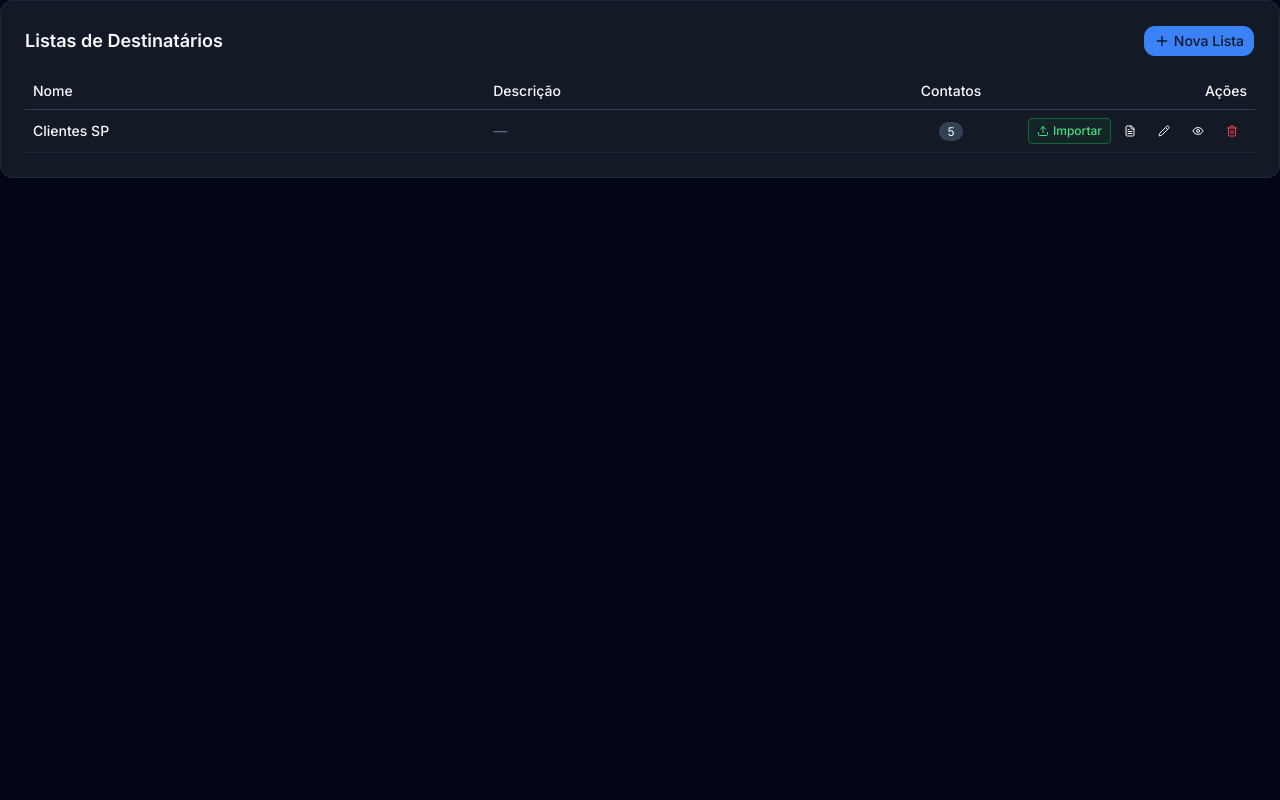
Scenario: ListasTab › limpa emails repetidos mantendo 1 contato por email
What coordinates should you click on to do the following:
click the button named "Editar lista Clientes SP"
I would click on:
 (1164, 131)
Its box is top-left (1149, 119), bottom-right (1179, 143).
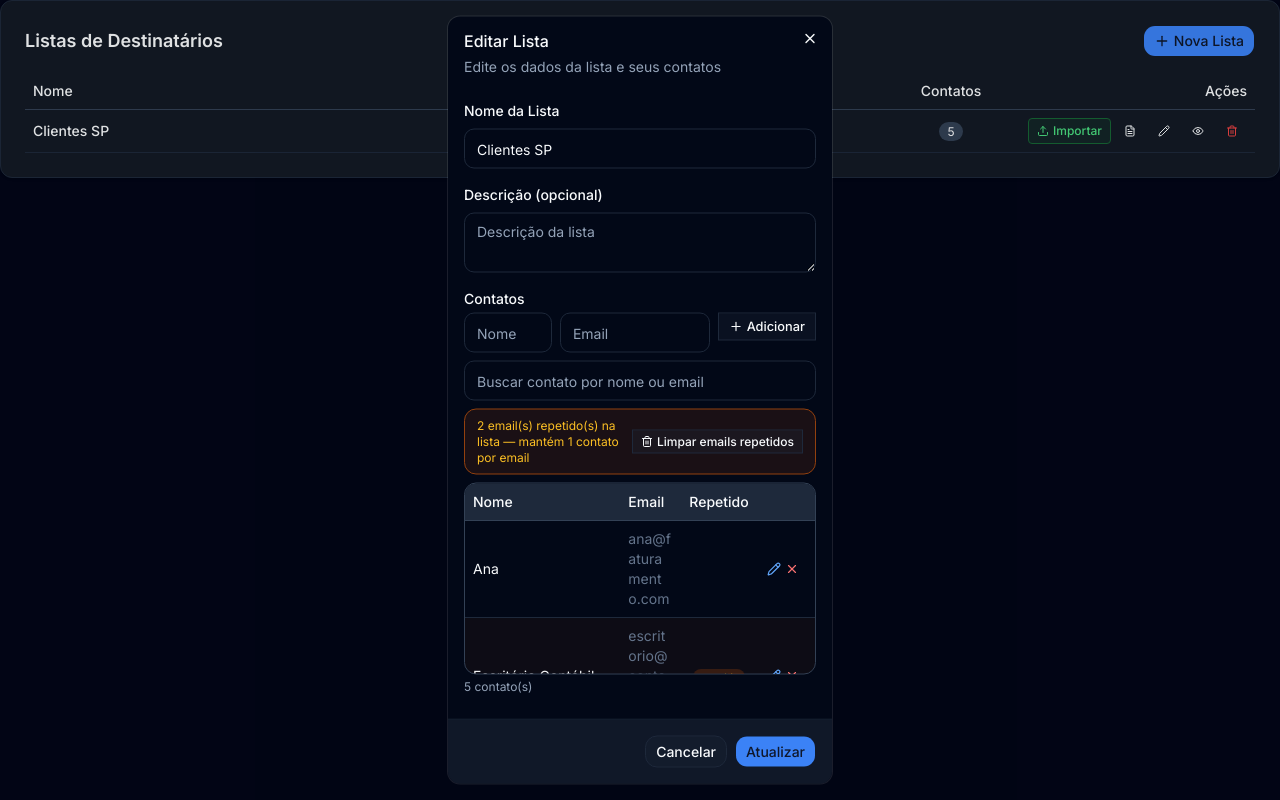
Expected: the heading "Editar Lista" is shown, top-left (464, 30), bottom-right (549, 50)
What coordinates should you click on to do the following:
click the button "Limpar emails repetidos"
I would click on:
 (717, 442)
Its box is top-left (632, 430), bottom-right (803, 454).
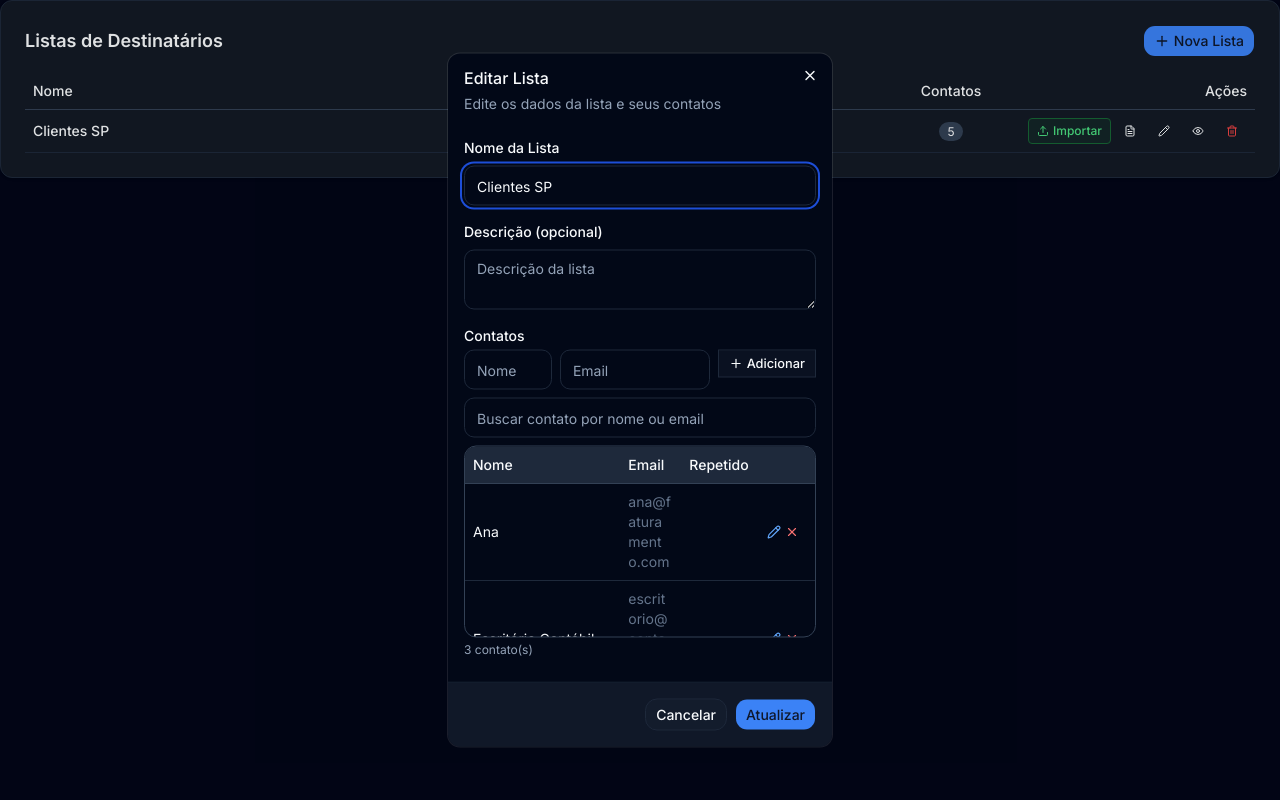
Expected: the text "email(s) repetido(s) na lista" is gone
Expected: the text "3 contato(s)" is shown, top-left (464, 642), bottom-right (533, 656)
